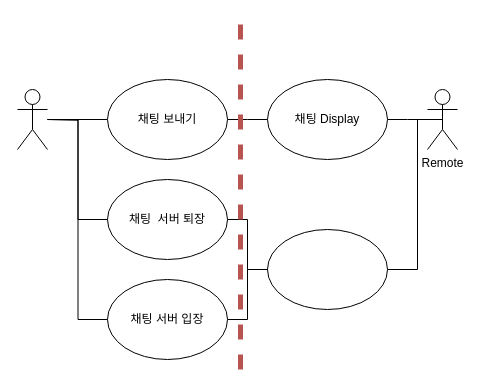
This 481x390 diagram has some shape labels left out. The centre of each missing label's shape, as x and y in pixels:
Local: the point at 32,119
유저 목록 Update: the point at 327,269
